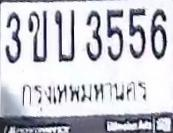3: (84, 10, 103, 61), (4, 12, 21, 64)
5: (128, 8, 146, 60), (106, 9, 123, 61)
6: (150, 8, 167, 60)
A02: (27, 10, 47, 62)
A26: (54, 9, 76, 62)
BKK: (16, 79, 151, 106)
